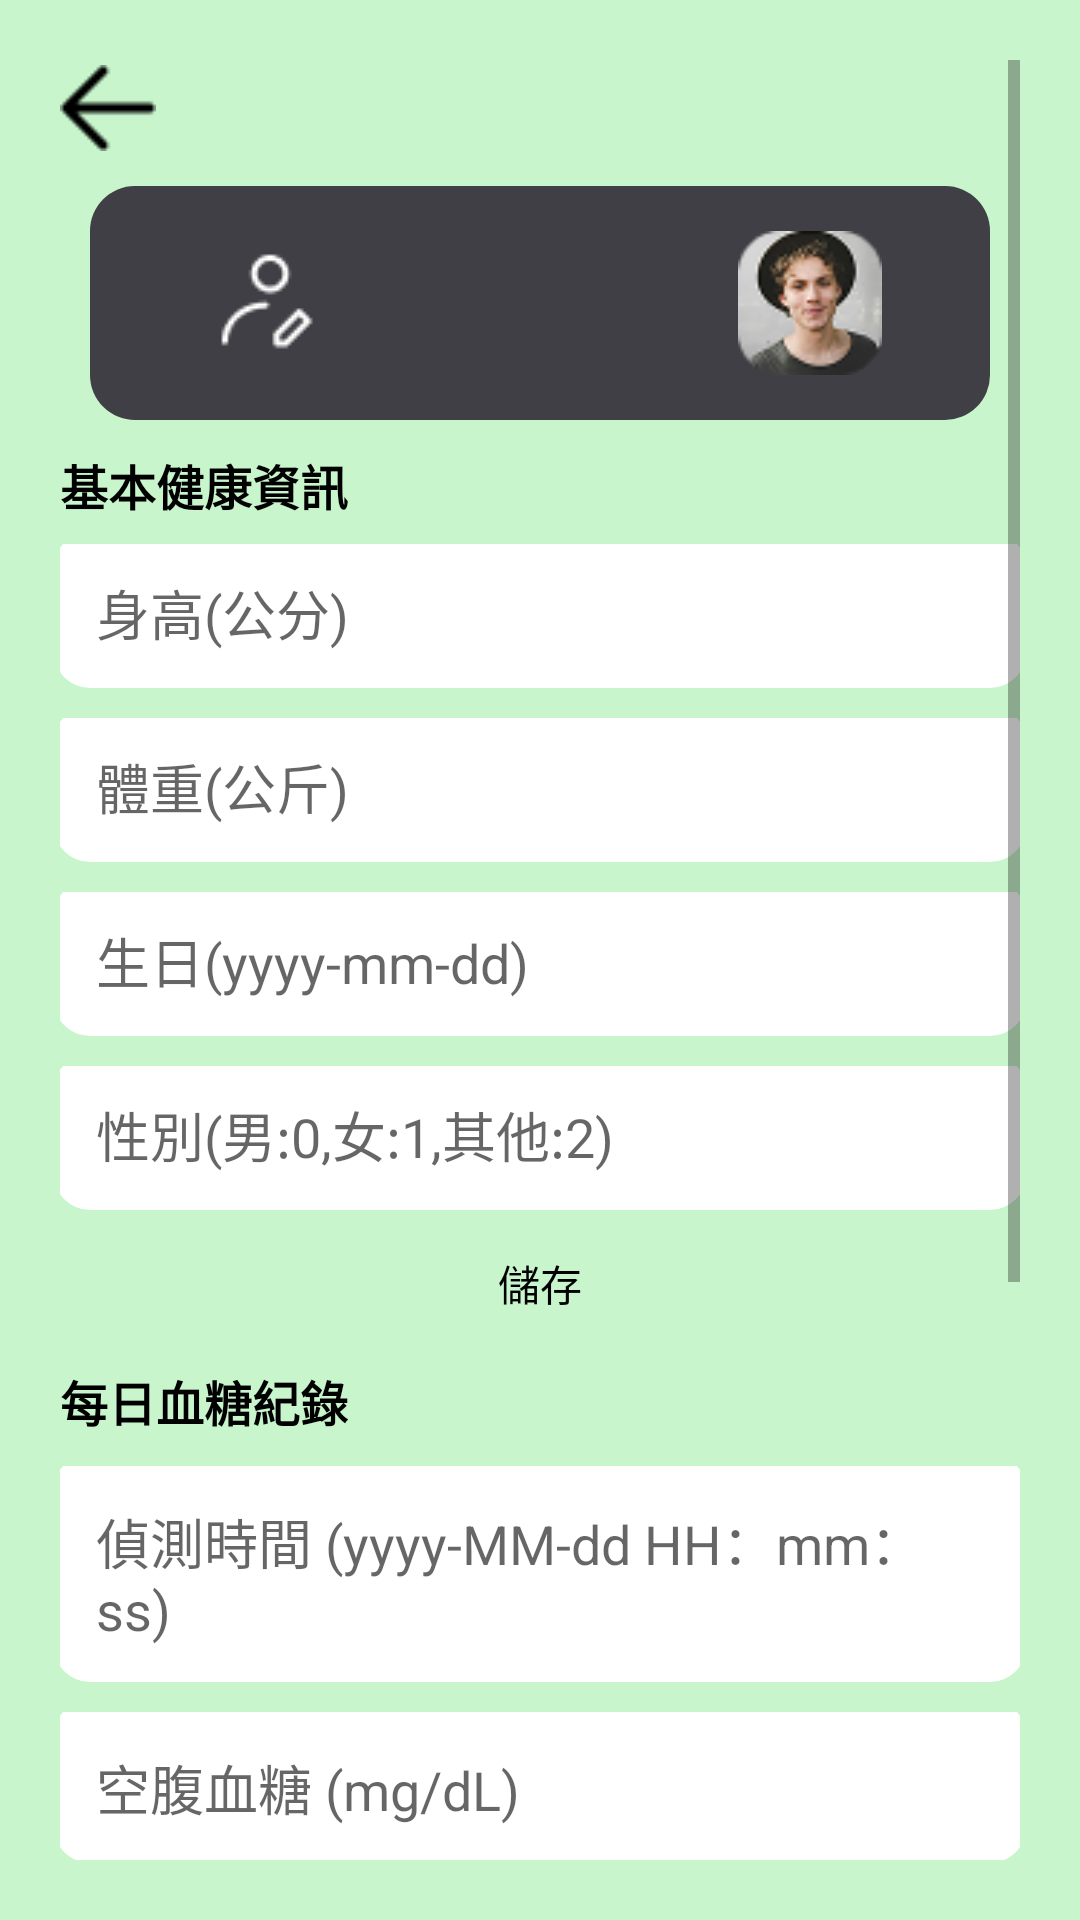

Icon bounding boxes for this 1080w x 1920h phone screenshot, format (x1, y1, x2, y2):
user photo: (738, 231, 882, 375)
返回: (60, 65, 156, 151)
